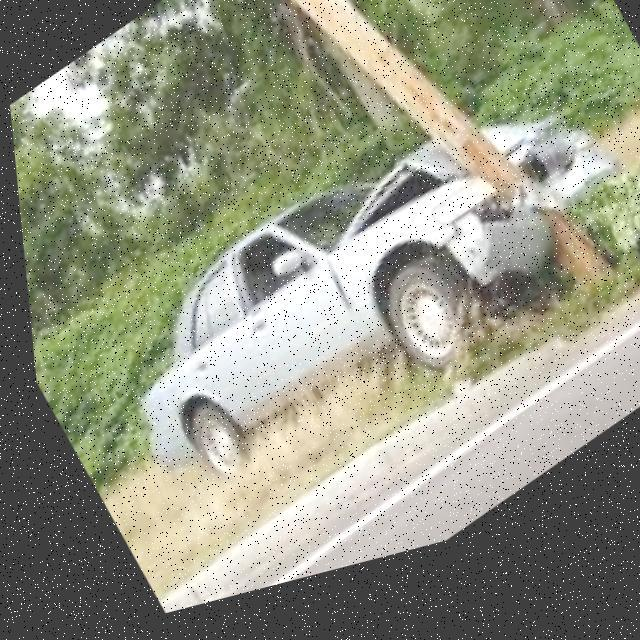Car Accident Detector - v4 Generation1 Exported: (67, 41, 640, 564)
